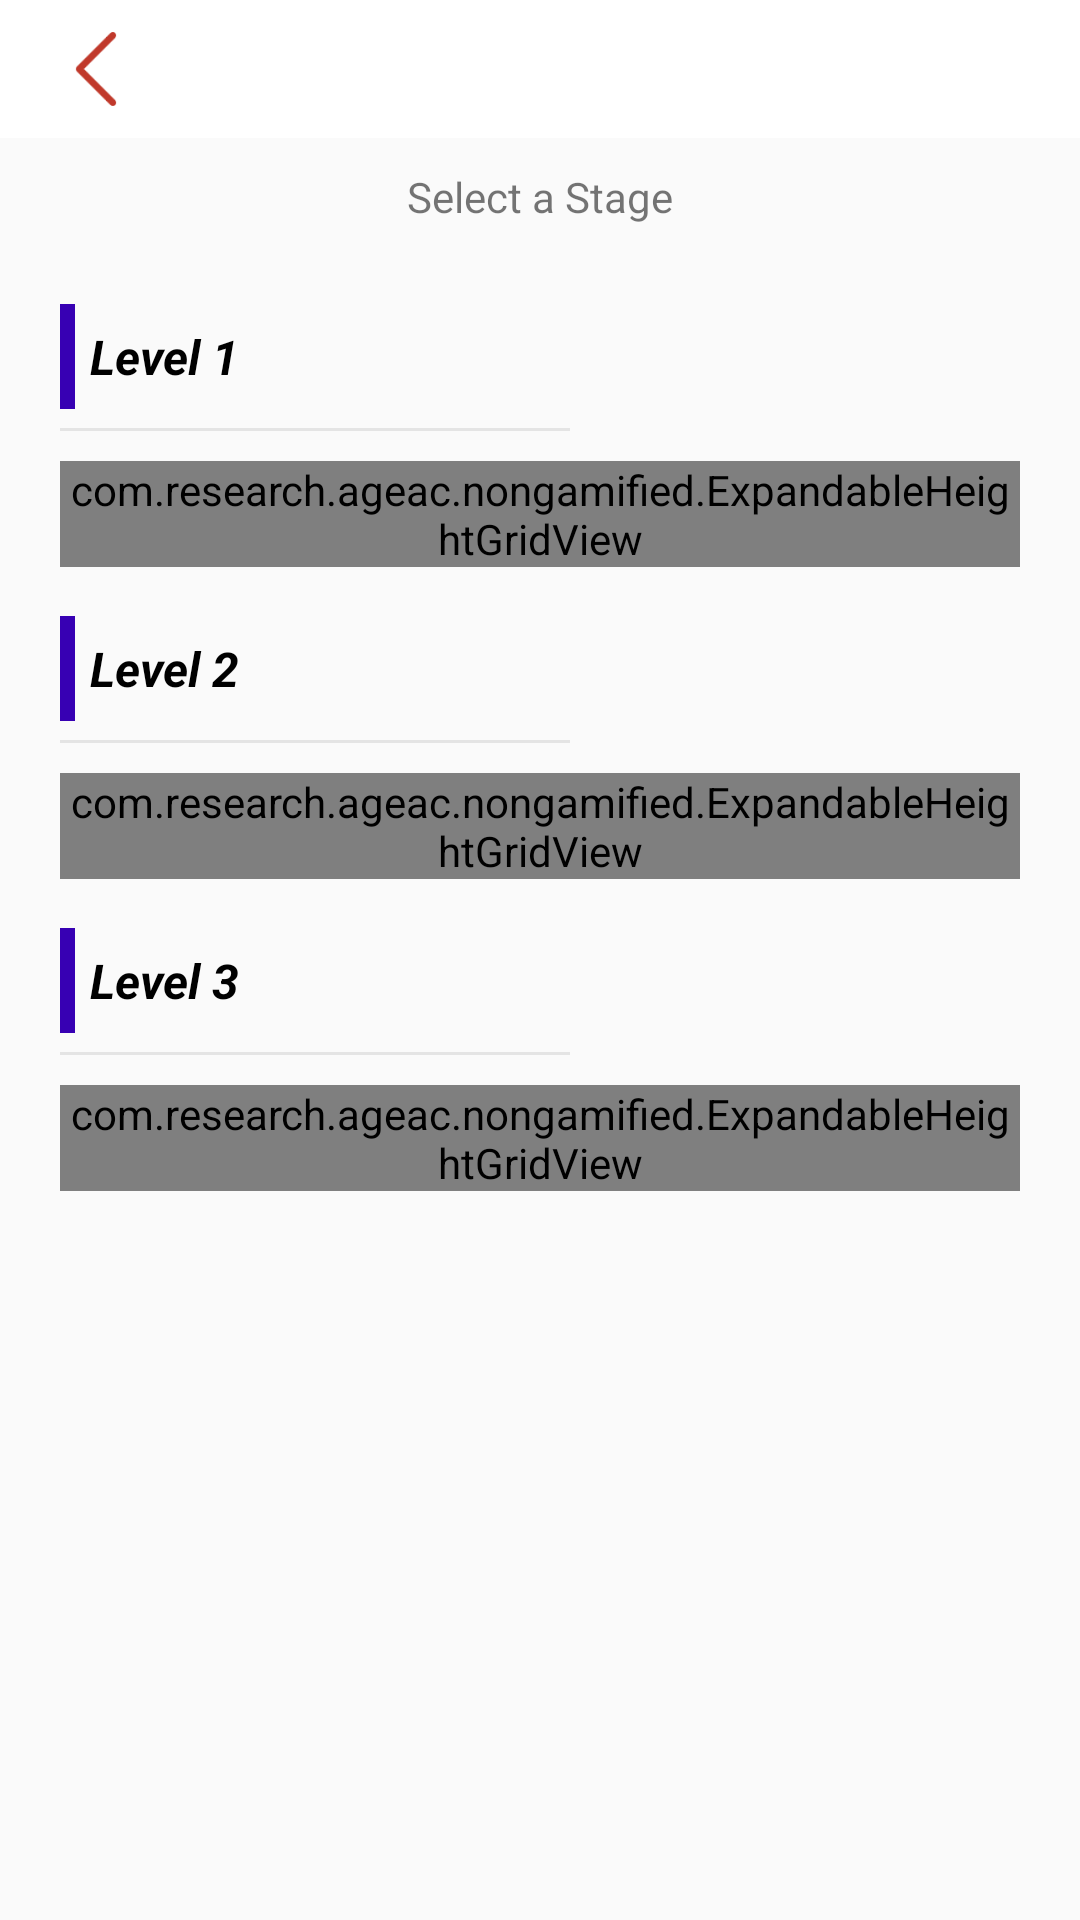

Where to tap for icons on this 1080 x 1920 app screen, as (x,y):
back: (96,69)
